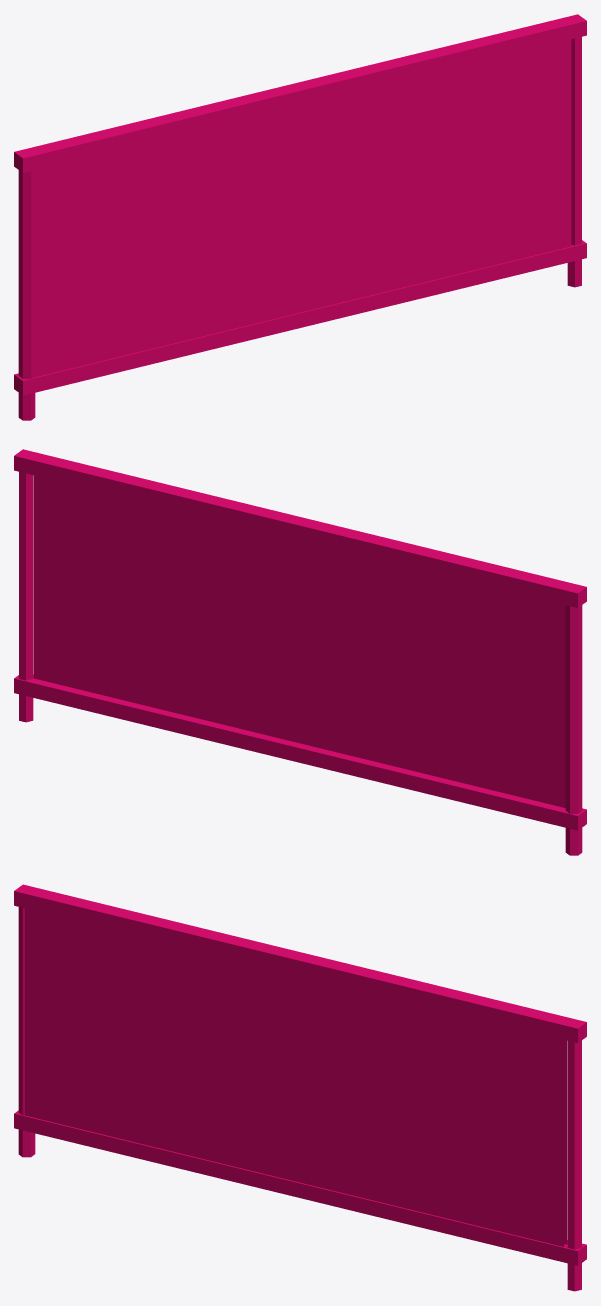
File: Concrete_Blocker_Fence_Lod0.fbx
3 views of the same model, one above another, from view 1: azimuth 30°, elevation 25°; view 2: azimuth 150°, elevation 25°; view 3: azimuth 330°, elevation 25° (orthographic).
Visible parts, largest first — view 1: Concrete_Blocker_Fence_Lod0; view 2: Concrete_Blocker_Fence_Lod0; view 3: Concrete_Blocker_Fence_Lod0.
Part boxes in pixels (left/top/right/bottom): Concrete_Blocker_Fence_Lod0: left=14, top=14, right=586, bottom=420; Concrete_Blocker_Fence_Lod0: left=14, top=449, right=586, bottom=855; Concrete_Blocker_Fence_Lod0: left=14, top=884, right=586, bottom=1291.
Size of the model in its own units: 145 by 64.97 by 4.02.
